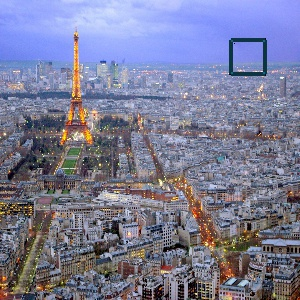square: (227, 37, 269, 77)
